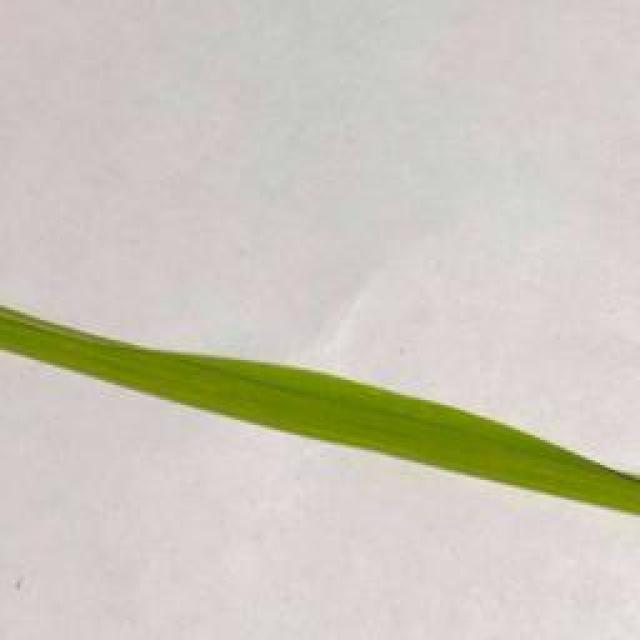Healthy-Plant: (0, 306, 640, 515)
